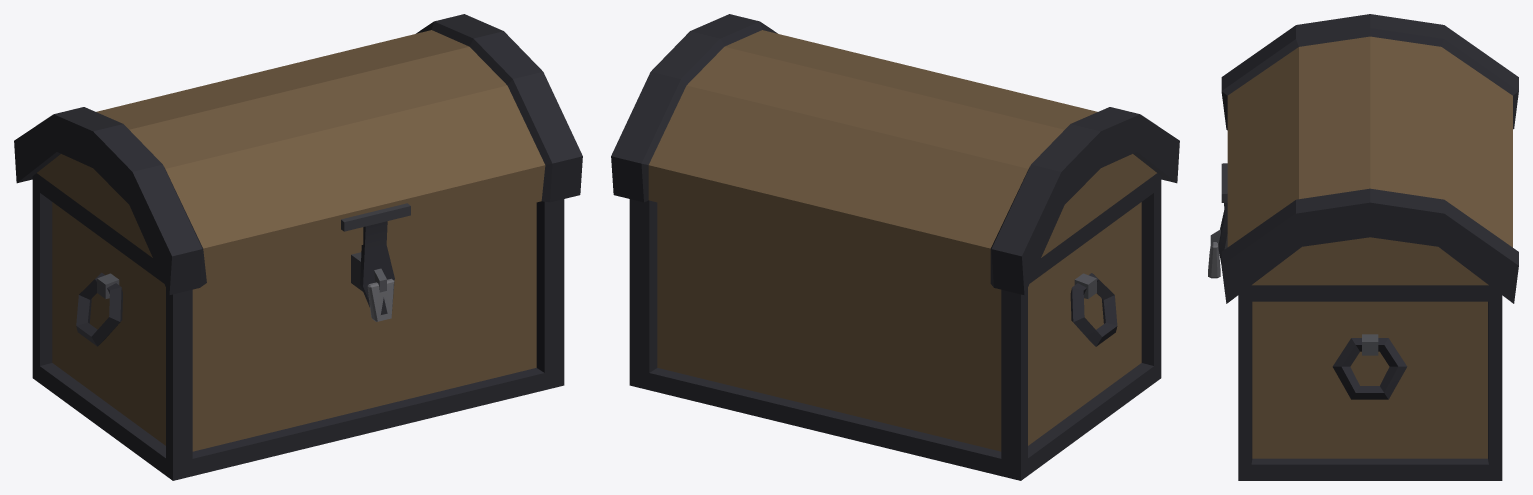
Rendered from Chest.fbx.
3 renders of one model, left to right at view 1: azimuth 30°, elevation 25°; view 2: azimuth 150°, elevation 25°; view 3: azimuth 270°, elevation 25°, orthographic. The views are drawn at different scales.
Parts seen in each view (by area): view 1: pCube2441; view 2: pCube2441; view 3: pCube2441.
Boxes of the visible parts, <box> form: pCube2441: <box>14,14,582,480</box>; pCube2441: <box>611,14,1179,480</box>; pCube2441: <box>1208,14,1518,480</box>.
Bounding box in the file's own units: 121 × 80.81 × 80.5.
